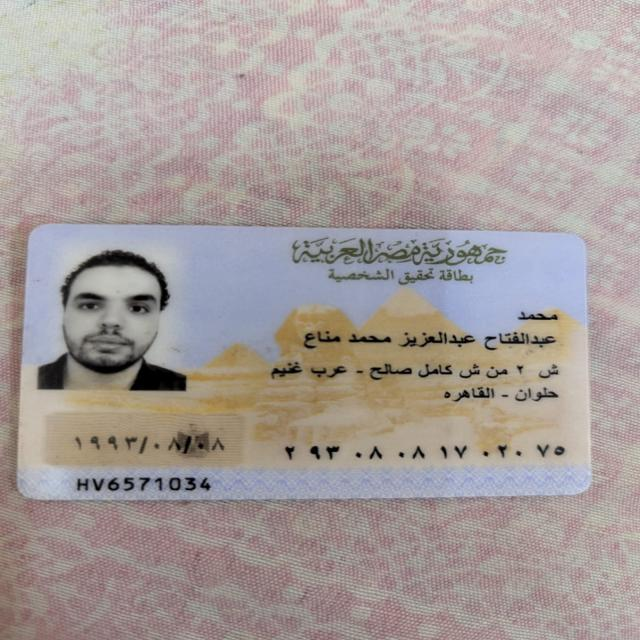id_card: (9, 219, 605, 517)
